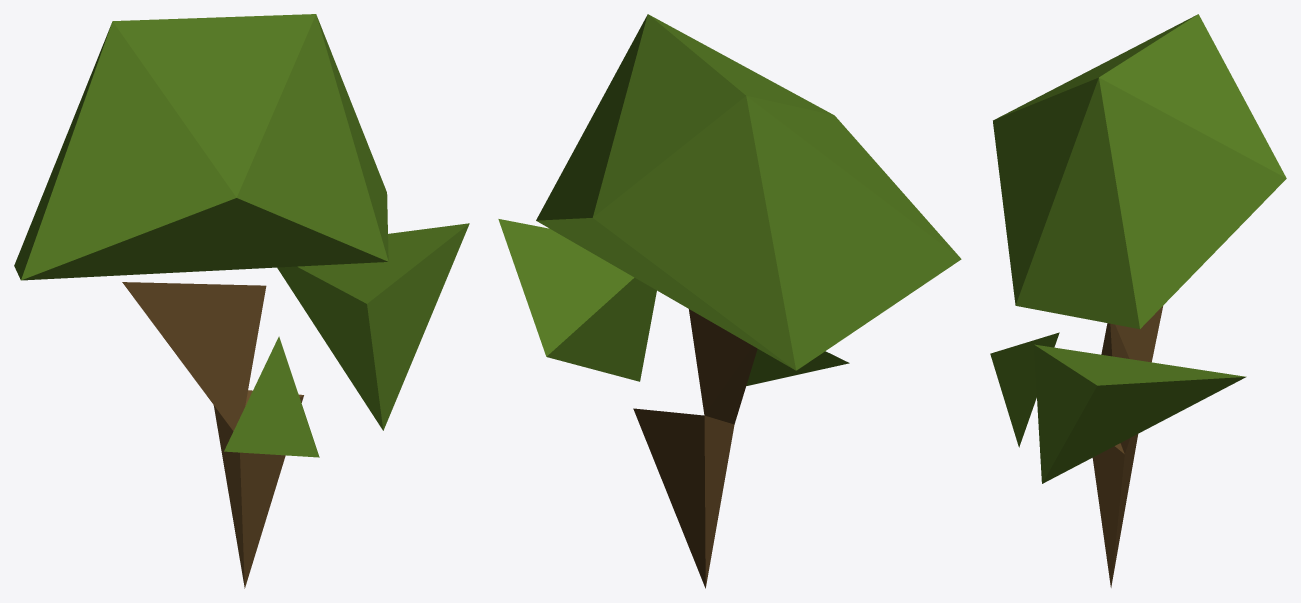
3 renders of one model, left to right at view 1: azimuth 30°, elevation 25°; view 2: azimuth 150°, elevation 25°; view 3: azimuth 270°, elevation 25°, orthographic. The views are drawn at different scales.
Visible parts, largest first — view 1: Tree1_1; view 2: Tree1_1; view 3: Tree1_1.
Part boxes in pixels (x1=…): Tree1_1: x1=14, y1=14, x2=469, y2=588; Tree1_1: x1=498, y1=14, x2=961, y2=588; Tree1_1: x1=990, y1=14, x2=1286, y2=587.
Bounding box in the file's own units: 6.16 × 7.21 × 3.58.
